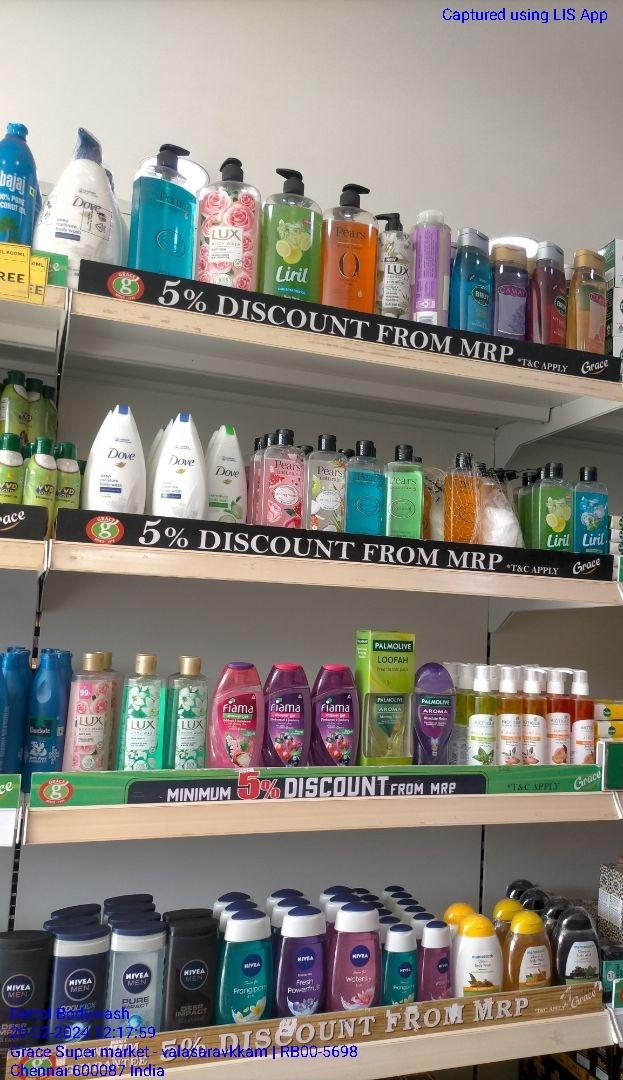Dove_Deep_Moisture_Body_Wash_250ML: (80, 400, 145, 513), (151, 401, 209, 516)
Dove_Refreshing_Body_Wash_250ML: (212, 411, 246, 525)
Fiama_Shower_Gel_Patchouli_and_Macadamia_250ML: (213, 657, 264, 767)
Liril_Cooling_Mint_Body_Wash_250ML: (578, 467, 608, 552)
Liril_Lime_and_Tea_Tree_Oil_Body_Wash_250ML: (535, 461, 574, 549)
Lux_Body_Wash_Skin_Detox_Freesia_Scent_and_Alove_Vera_245ML: (120, 656, 164, 772), (167, 654, 210, 769)
Nivea_Shower_Gel_Frangipani_and_Oil_250ML: (217, 917, 274, 1021)
Nivea_Shower_Gel_Fresh_Powerfruit_250ML: (277, 906, 328, 1016)
Nivea_Shower_Gel_Waterlily_and_Oil_250ML: (332, 908, 380, 1009)
Palmolive_Aroma_Relax_250ML: (414, 661, 453, 763)
Pears_Pure_Glycerin_and_Lemon_Flower_Extracts_Body_Wash_250ML: (386, 444, 423, 537)
Pears_Pure_Glycerin_and_Mint_Extracts_Body_Wash_250ML: (347, 436, 383, 535)
